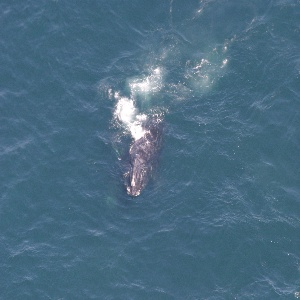cetacean: (121, 110, 167, 199)
